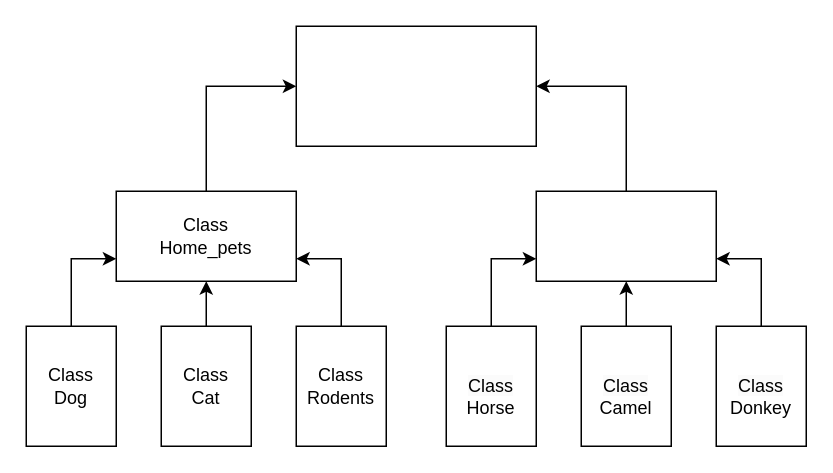
This 833x473 diagram has some shape labels left out. The box of each missing label's shape, as (x1, y1, x2, y2) in pixels:
Class Animal: (295, 25, 536, 146)
Class Pack_pets: (535, 190, 716, 281)
